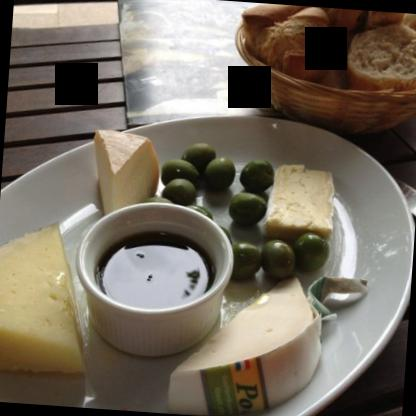bread: (239, 3, 326, 84), (343, 20, 415, 98)
parmesan cheese: (0, 231, 95, 380), (260, 158, 340, 246), (86, 125, 158, 221)
